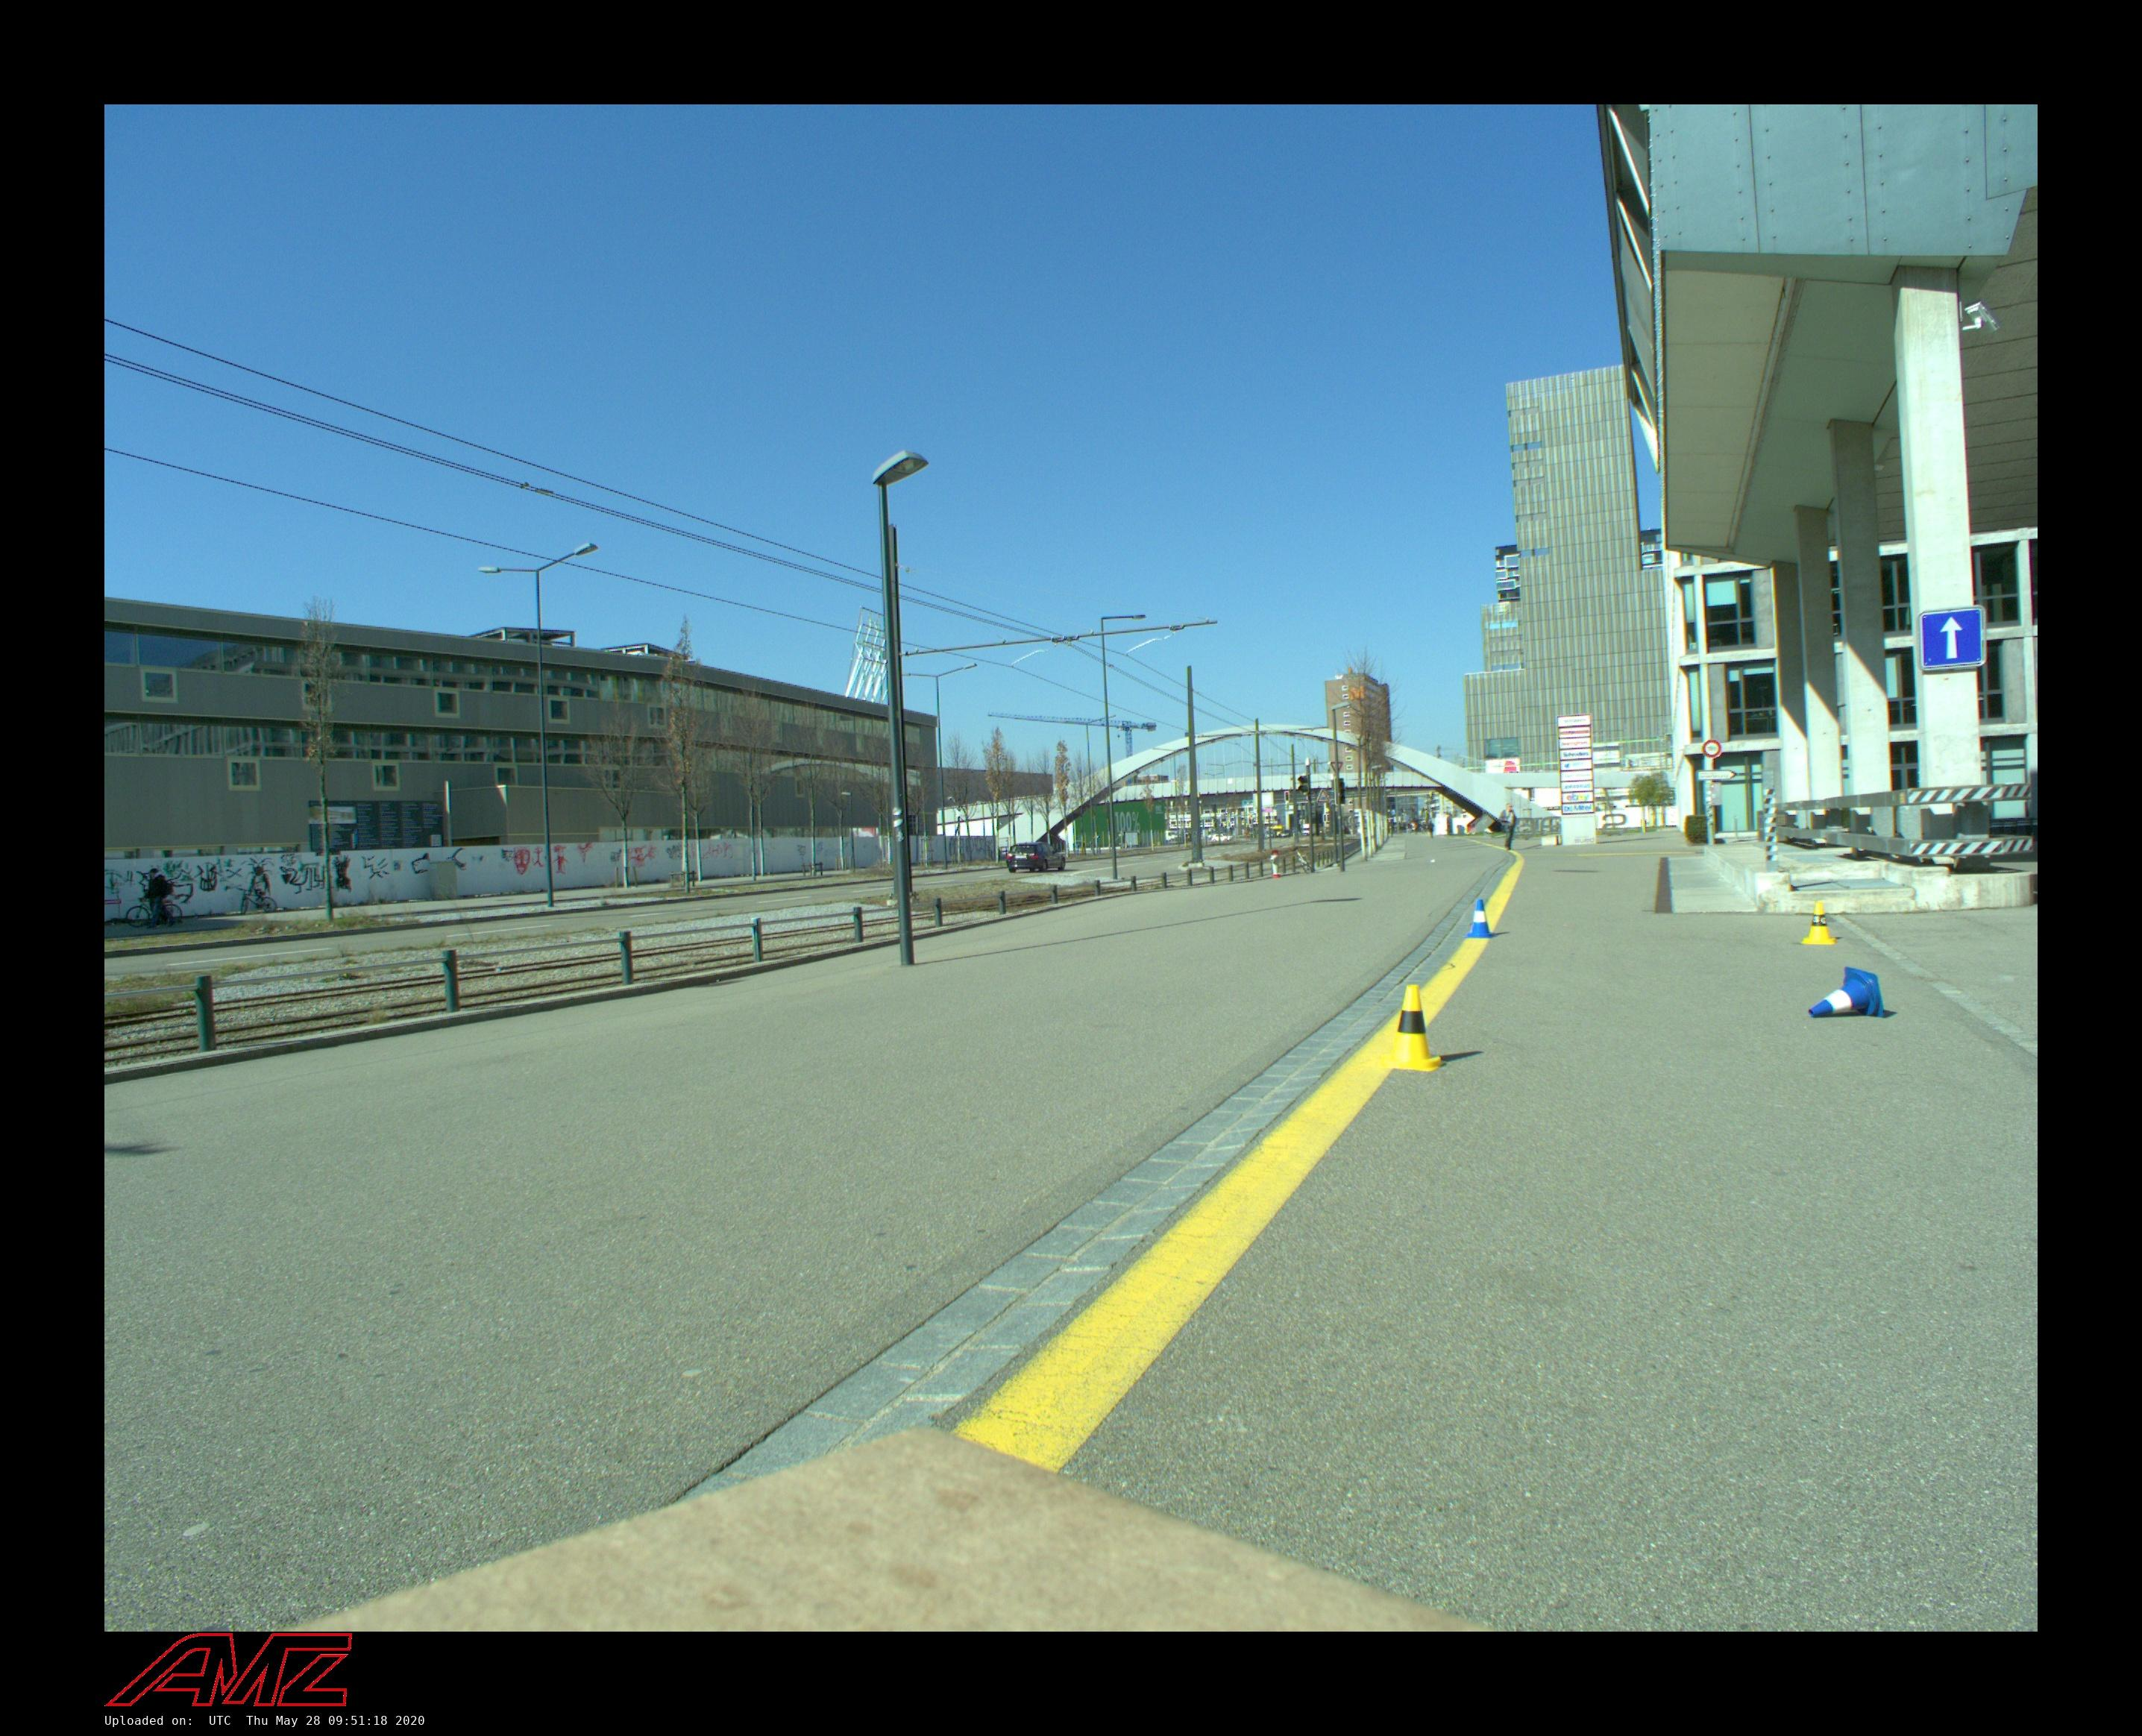blue_cone: (1807, 967, 1885, 1019), (1463, 900, 1495, 939)
yellow_cone: (1380, 987, 1447, 1072), (1802, 902, 1837, 944)
